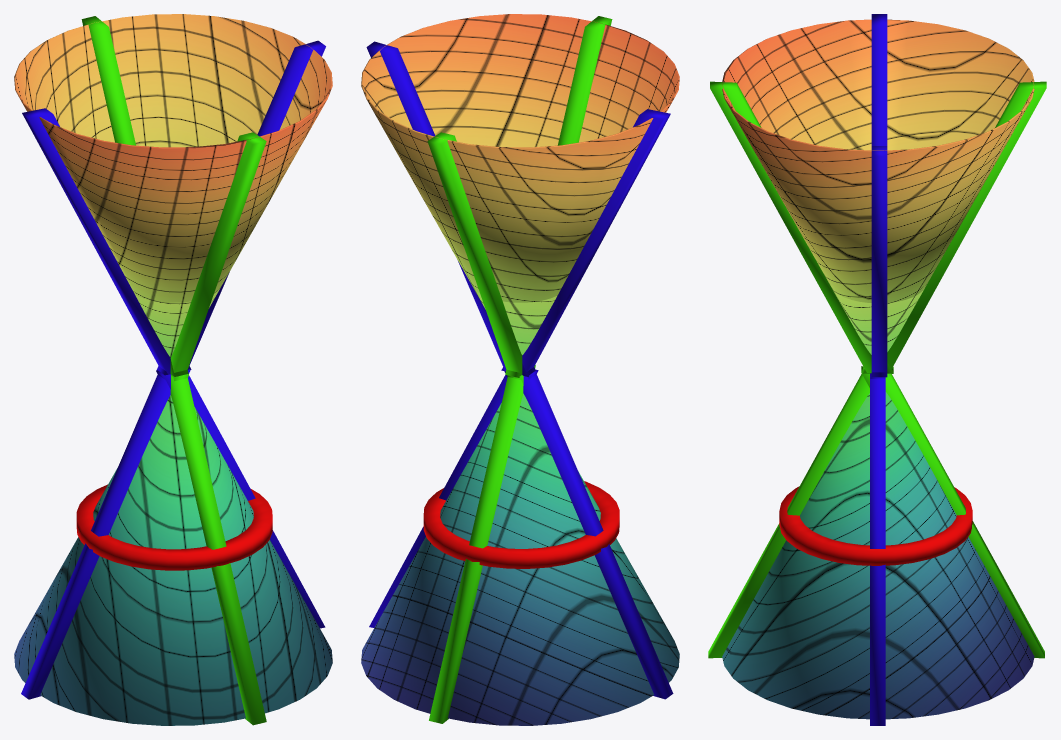
Rendered from newConoEliptico.fbx.
3 views of the same model, side by side, from view 1: azimuth 30°, elevation 25°; view 2: azimuth 150°, elevation 25°; view 3: azimuth 270°, elevation 25° (orthographic).
Visible parts, largest first — view 1: Cono, XZ__Z_, YZ__Y_, XY__X_; view 2: Cono, XZ__Z_, YZ__Y_, XY__X_; view 3: Cono, YZ__Y_, XZ__Z_, XY__X_.
Boxes of the visible parts, x1=… form: Cono: x1=14, y1=14, x2=332, y2=725; XZ__Z_: x1=21, y1=40, x2=325, y2=699; YZ__Y_: x1=81, y1=16, x2=266, y2=725; XY__X_: x1=76, y1=484, x2=272, y2=570; Cono: x1=361, y1=14, x2=679, y2=725; XZ__Z_: x1=366, y1=41, x2=673, y2=699; YZ__Y_: x1=427, y1=16, x2=612, y2=723; XY__X_: x1=423, y1=481, x2=619, y2=568; Cono: x1=722, y1=19, x2=1034, y2=719; YZ__Y_: x1=708, y1=81, x2=1046, y2=658; XZ__Z_: x1=870, y1=14, x2=887, y2=725; XY__X_: x1=779, y1=486, x2=972, y2=565.
Bounding box in the file's own units: 216 × 401 × 215.
Materials: 4 (1 with a texture image).
